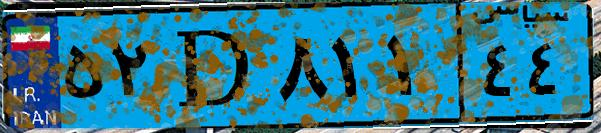1: (385, 28, 445, 110), (330, 28, 385, 110)
2: (110, 28, 158, 98)
4: (475, 38, 525, 113), (525, 38, 570, 115)
5: (57, 26, 110, 100)
8: (270, 28, 330, 110)
D: (158, 12, 270, 120)
